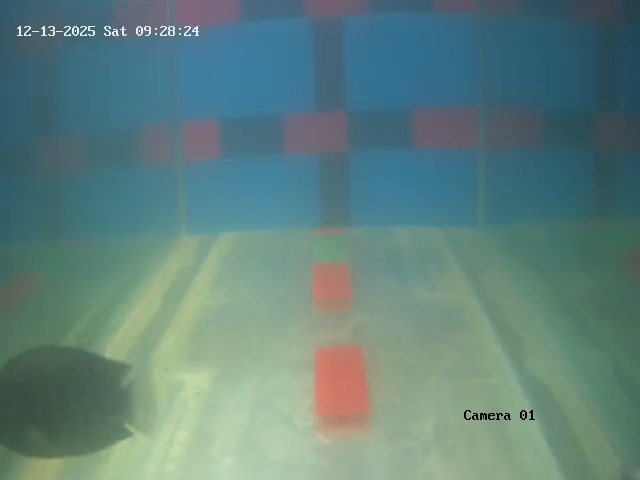fish: (1, 343, 149, 456)
